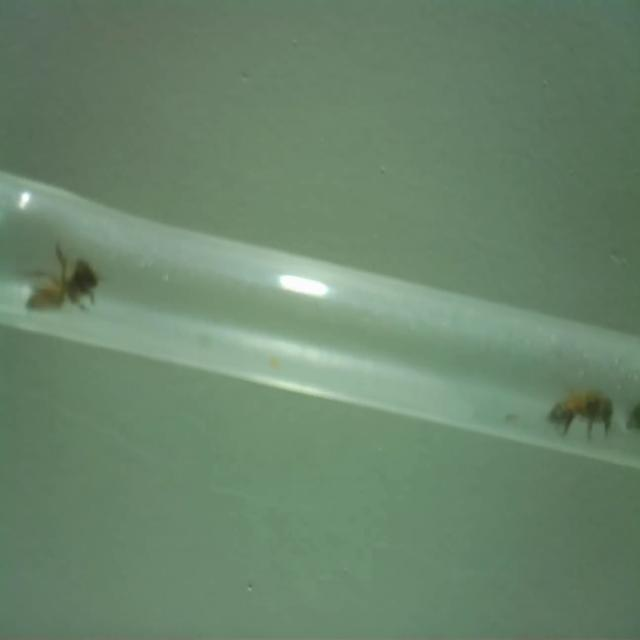Honeybee-Detection: (22, 239, 103, 311), (546, 385, 613, 440), (625, 383, 640, 435), (625, 381, 640, 431)
